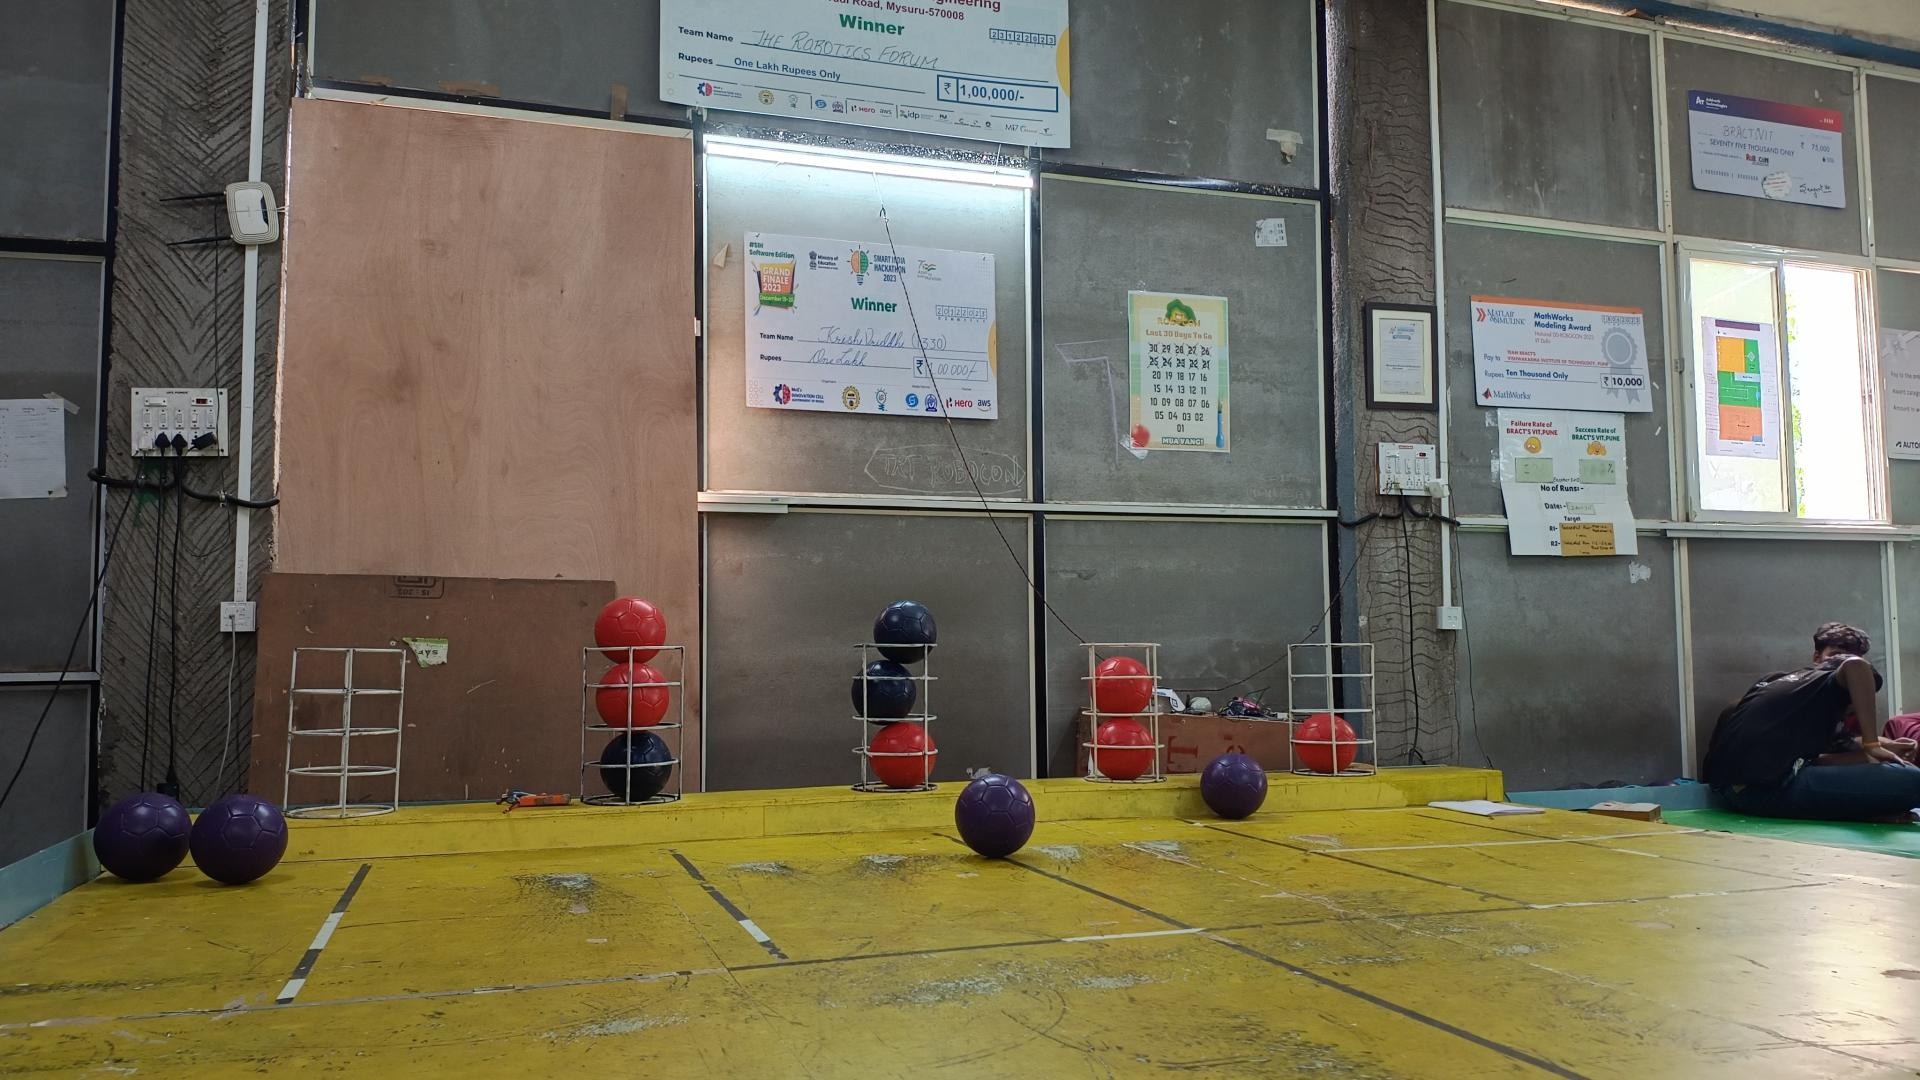dhoka: (600, 732, 675, 803), (874, 600, 938, 663), (852, 661, 919, 720)
laale: (596, 663, 671, 728), (596, 596, 667, 663), (870, 720, 938, 787), (1095, 716, 1155, 781), (1294, 712, 1357, 773), (1095, 657, 1151, 712)
